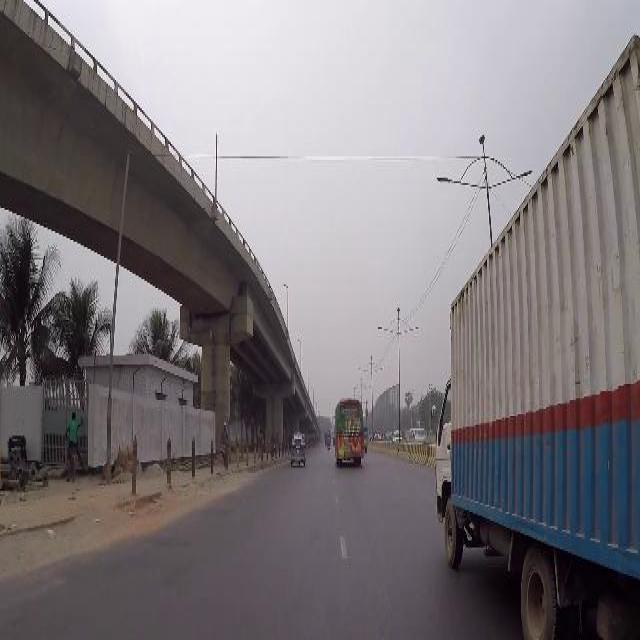bike: (328, 437, 331, 451)
vehicle: (435, 35, 639, 636), (335, 395, 365, 464), (290, 432, 306, 466), (409, 427, 428, 443), (325, 430, 332, 444)
